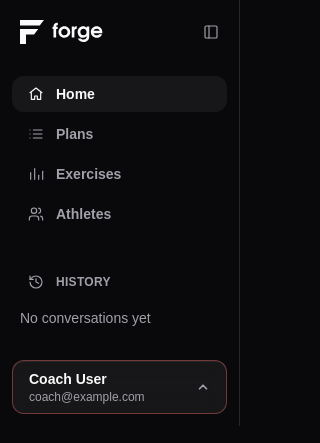
Test: Sidebar › opens profile menu from collapsed chevron
The image size is (320, 443).
Click the button named "Collapse sidebar".
click(211, 32)  # box [195,16,227,48]
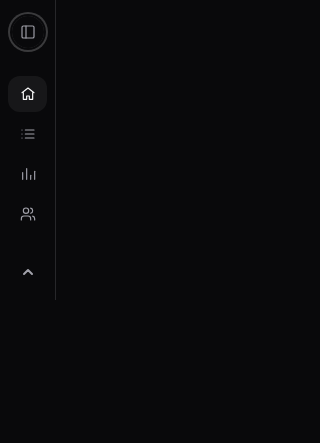
Click the button named "Open profile menu".
click(28, 272)  # box [8,256,47,288]
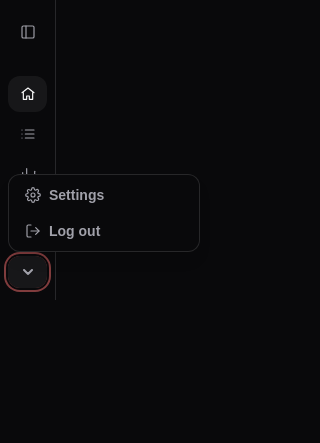
expect the menu item "Log out" is shown: met, box [13,215,195,247]
